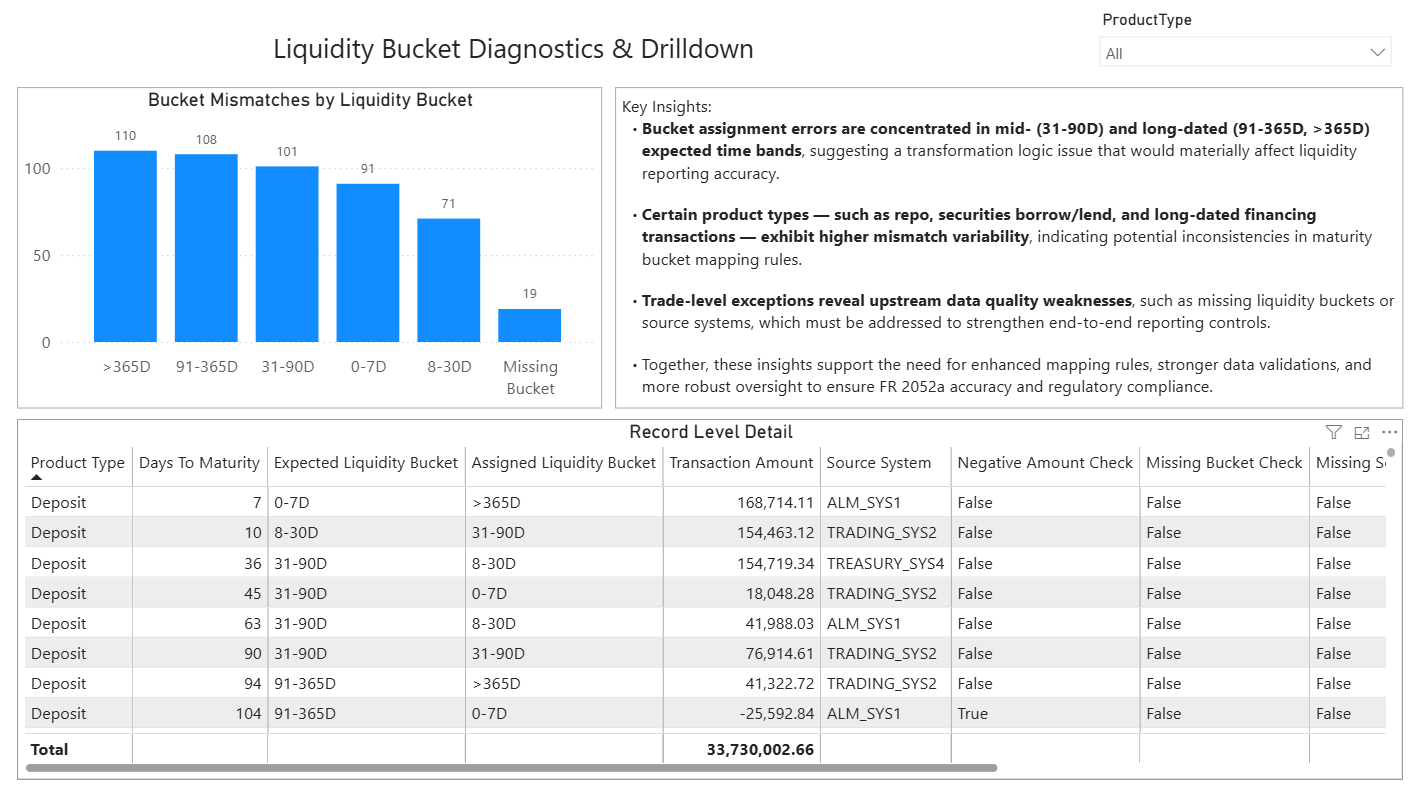

The dashboard page shown, as its layout file describes it:
{"tool":"powerbi","page":{"name":"Diagnostics/Root Cause","canvas":[1280,720],"ordinal":1},"visuals":[{"type":"clusteredColumnChart","title":"Bucket Mismatches by Liquidity Bucket","fields":{"Y":["CountNonNull(liquidity_with_dq_flags.DQ_BucketMismatch)"],"Category":["liquidity_with_dq_flags.LiquidityBucket_Label"]},"box":[19.7,82.4,523.9,288.4],"z":0},{"type":"tableEx","title":"Record Level Detail","fields":{"Values":["liquidity_with_dq_flags.ProductType","liquidity_with_dq_flags.DaysToMaturity","liquidity_with_dq_flags.ExpectedBucket","liquidity_with_dq_flags.LiquidityBucket_Label","Sum(liquidity_with_dq_flags.Amount)","liquidity_with_dq_flags.SourceSystem","liquidity_with_dq_flags.DQ_NegativeAmount","liquidity_with_dq_flags.DQ_MissingBucket","liquidity_with_dq_flags.DQ_MissingSourceSystem","liquidity_with_dq_flags.DQ_BucketMismatch","liquidity_with_dq_flags.DQ_HasIssue"]},"box":[19.7,379.7,1241.2,323.3],"z":2000},{"type":"textbox","box":[19.7,25.1,889.3,49.3],"z":2001},{"type":"slicer","fields":{"Values":["liquidity_with_dq_flags.ProductType"]},"box":[978.8,9,282.1,57.3],"z":2002},{"type":"textbox","box":[555.2,82.4,705.7,288.4],"z":2003}]}

Visuals, with their boxes in screenshot pixels (x1, y1, x2, y2), scaled from the page's 1280x720 canvas onto the 1420x795 screenshot:
"Bucket Mismatches by Liquidity Bucket" clusteredColumnChart: [left=22, top=91, right=603, bottom=409]
"Record Level Detail" tableEx: [left=22, top=419, right=1399, bottom=776]
textbox: [left=22, top=28, right=1008, bottom=82]
slicer - liquidity_with_dq_flags.ProductType: [left=1086, top=10, right=1399, bottom=73]
textbox: [left=616, top=91, right=1399, bottom=409]
